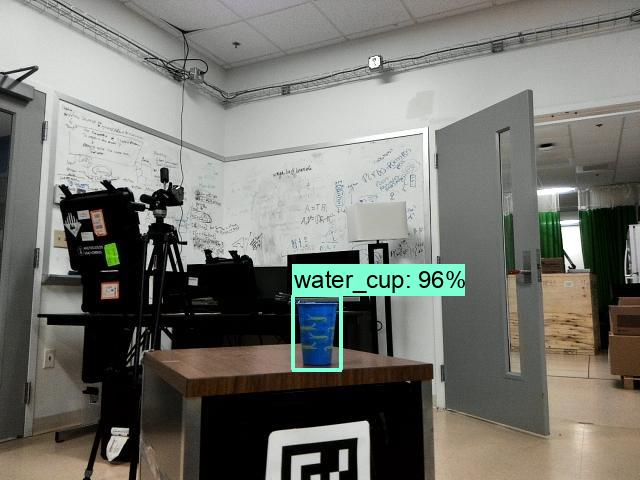water_cup: (294, 298, 341, 369)
